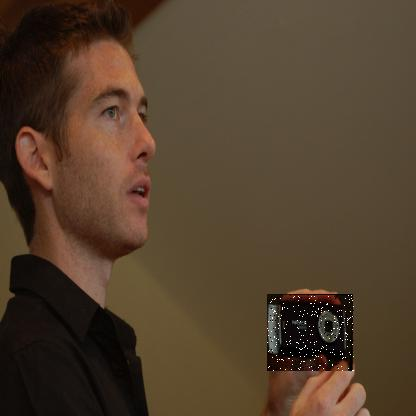Camera: (269, 295, 357, 373)
